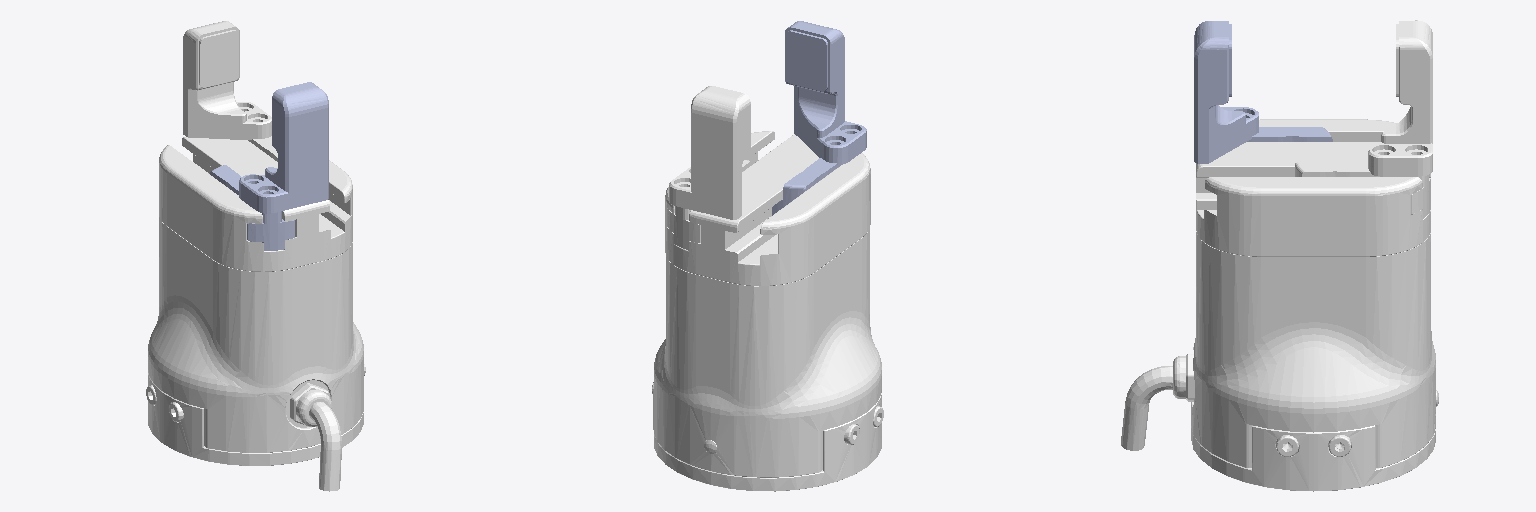
The robot description file, URDF, robot "dh_pgc140_urdf":
<?xml version="1.0" encoding="utf-8"?>
<!-- This URDF was automatically created by SolidWorks to URDF Exporter! Originally created by [author] ([email redacted]) 
     Commit Version: 1.6.0-1-g15f4949  Build Version: 1.6.7594.29634
     For more information, please see http://wiki.ros.org/sw_urdf_exporter -->
<robot
  name="dh_pgc140_urdf">
  <link
    name="base_link">
    <inertial>
      <origin
        xyz="-3.9257E-06 -0.00027208 0.037806"
        rpy="0 0 0" />
      <mass
        value="0.34365" />
      <inertia
        ixx="0.00036805"
        ixy="-7.2868E-08"
        ixz="-5.0168E-08"
        iyy="0.0003341"
        iyz="-2.6462E-06"
        izz="0.00022294" />
    </inertial>
    <visual>
      <origin
        xyz="0 0 0"
        rpy="0 0 0" />
      <geometry>
        <mesh
          filename="package://dh_pgc140_urdf/meshes/base_link.STL" />
      </geometry>
      <material
        name="">
        <color
          rgba="1 1 1 1" />
      </material>
    </visual>
    <collision>
      <origin
        xyz="0 0 0"
        rpy="0 0 0" />
      <geometry>
        <mesh
          filename="package://dh_pgc140_urdf/meshes/base_link.STL" />
      </geometry>
    </collision>
  </link>
  <link
    name="finger1_link">
    <inertial>
      <origin
        xyz="0.0030491 -0.0066024 0.0064209"
        rpy="0 0 0" />
      <mass
        value="0.014278" />
      <inertia
        ixx="1.7567E-06"
        ixy="-5.7832E-08"
        ixz="2.6803E-08"
        iyy="2.3034E-06"
        iyz="2.2145E-07"
        izz="1.3354E-06" />
    </inertial>
    <visual>
      <origin
        xyz="0 0 0"
        rpy="0 0 0" />
      <geometry>
        <mesh
          filename="package://dh_pgc140_urdf/meshes/finger1_Link.STL" />
      </geometry>
      <material
        name="">
        <color
          rgba="1 1 1 1" />
      </material>
    </visual>
    <collision>
      <origin
        xyz="0 0 0"
        rpy="0 0 0" />
      <geometry>
        <mesh
          filename="package://dh_pgc140_urdf/meshes/finger1_Link.STL" />
      </geometry>
    </collision>
  </link>
  <joint
    name="finger1_joint"
    type="prismatic">
    <origin
      xyz="0.0132 0.0265 0.093"
      rpy="0 0 -1.5708" />
    <parent
      link="base_link" />
    <child
      link="finger1_link" />
    <axis
      xyz="1 0 0" />
    <limit
      lower="0"
      upper="0.025"
      effort="140"
      velocity="1" />
  </joint>
  <link
    name="finger2_link">
    <inertial>
      <origin
        xyz="0.0030491 -0.0066024 0.0064209"
        rpy="0 0 0" />
      <mass
        value="0.014278" />
      <inertia
        ixx="1.7567E-06"
        ixy="-5.7832E-08"
        ixz="2.6803E-08"
        iyy="2.3034E-06"
        iyz="2.2145E-07"
        izz="1.3354E-06" />
    </inertial>
    <visual>
      <origin
        xyz="0 0 0"
        rpy="0 0 0" />
      <geometry>
        <mesh
          filename="package://dh_pgc140_urdf/meshes/finger2_Link.STL" />
      </geometry>
      <material
        name="">
        <color
          rgba="0.79216 0.81961 0.93333 1" />
      </material>
    </visual>
    <collision>
      <origin
        xyz="0 0 0"
        rpy="0 0 0" />
      <geometry>
        <mesh
          filename="package://dh_pgc140_urdf/meshes/finger2_Link.STL" />
      </geometry>
    </collision>
  </link>
  <joint
    name="finger2_joint"
    type="prismatic">
    <origin
      xyz="-0.0132 -0.0265 0.093"
      rpy="0 0 1.5708" />
    <parent
      link="base_link" />
    <child
      link="finger2_link" />
    <axis
      xyz="1 0 0" />
    <limit
      lower="0"
      upper="0.025"
      effort="140"
      velocity="1" />
    <mimic
      joint="finger1_joint"
      multiplier="1"
      offset="0" />
  </joint>
</robot>

--- Render facts (derived) ---
3 views of the same robot in one strip: view 1: azimuth 30°, elevation 25°; view 2: azimuth 150°, elevation 25°; view 3: azimuth 270°, elevation 25° (orthographic).
Robot: dh_pgc140_urdf — 3 links, 2 joints (2 prismatic); root link base_link; default pose: all joints at 0.
Visible links, largest first — view 1: base_link, finger2_link, finger1_link; view 2: base_link, finger2_link, finger1_link; view 3: base_link, finger1_link, finger2_link.
Boxes of the visible links, x1=… form: base_link: x1=146, y1=137, x2=365, y2=491; finger2_link: x1=210, y1=82, x2=328, y2=250; finger1_link: x1=183, y1=21, x2=277, y2=161; base_link: x1=652, y1=131, x2=883, y2=491; finger2_link: x1=772, y1=21, x2=866, y2=215; finger1_link: x1=667, y1=86, x2=752, y2=250; base_link: x1=1121, y1=119, x2=1438, y2=491; finger1_link: x1=1295, y1=20, x2=1432, y2=218; finger2_link: x1=1194, y1=21, x2=1332, y2=163.
Size in the robot's own frame: 0.0751 by 0.0974 by 0.1419 metres.
Meshes: 3 distinct files referenced, 3 mesh visuals loaded (3 binary STL).